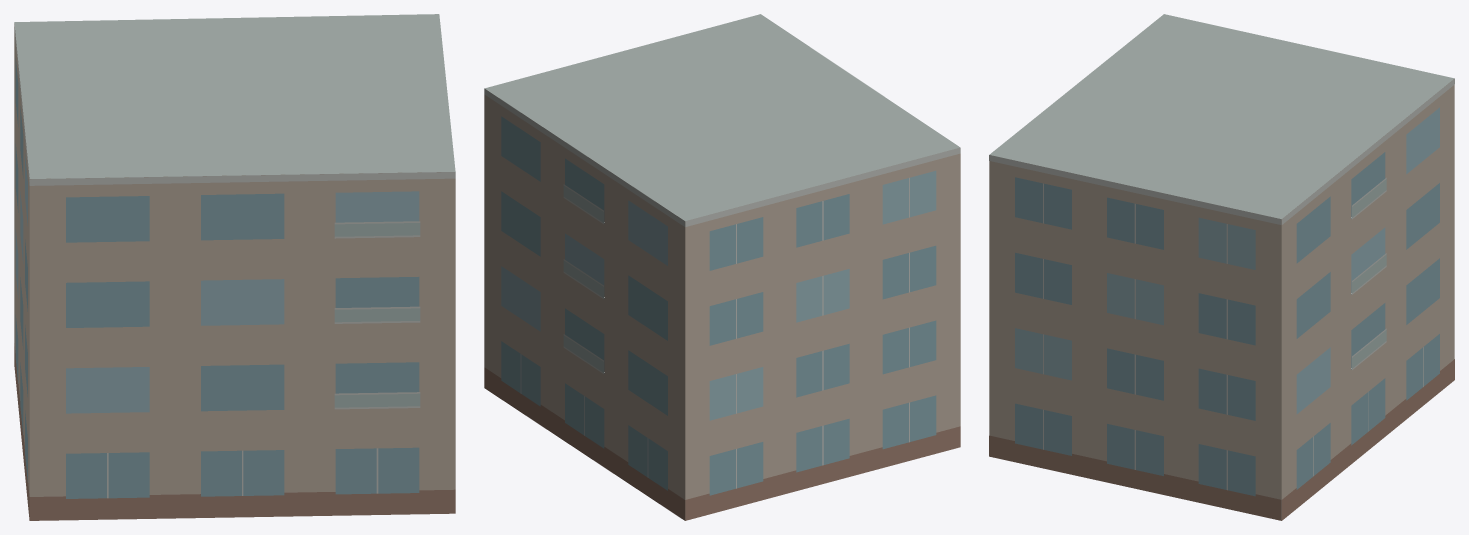
The model's file is survey-upis-32888855.glb.
3 views of the same model, side by side, from view 1: azimuth 30°, elevation 25°; view 2: azimuth 150°, elevation 25°; view 3: azimuth 270°, elevation 25° (orthographic). The views are drawn at different scales.
Parts seen in each view (by area): view 1: survey-upis-32888855.tmp; view 2: survey-upis-32888855.tmp; view 3: survey-upis-32888855.tmp.
Part boxes in pixels (<box>): survey-upis-32888855.tmp: <box>14,14,455,520</box>; survey-upis-32888855.tmp: <box>484,14,960,520</box>; survey-upis-32888855.tmp: <box>989,14,1454,520</box>.
Size of the model in its own units: 17.8 by 12.2 by 17.07.
